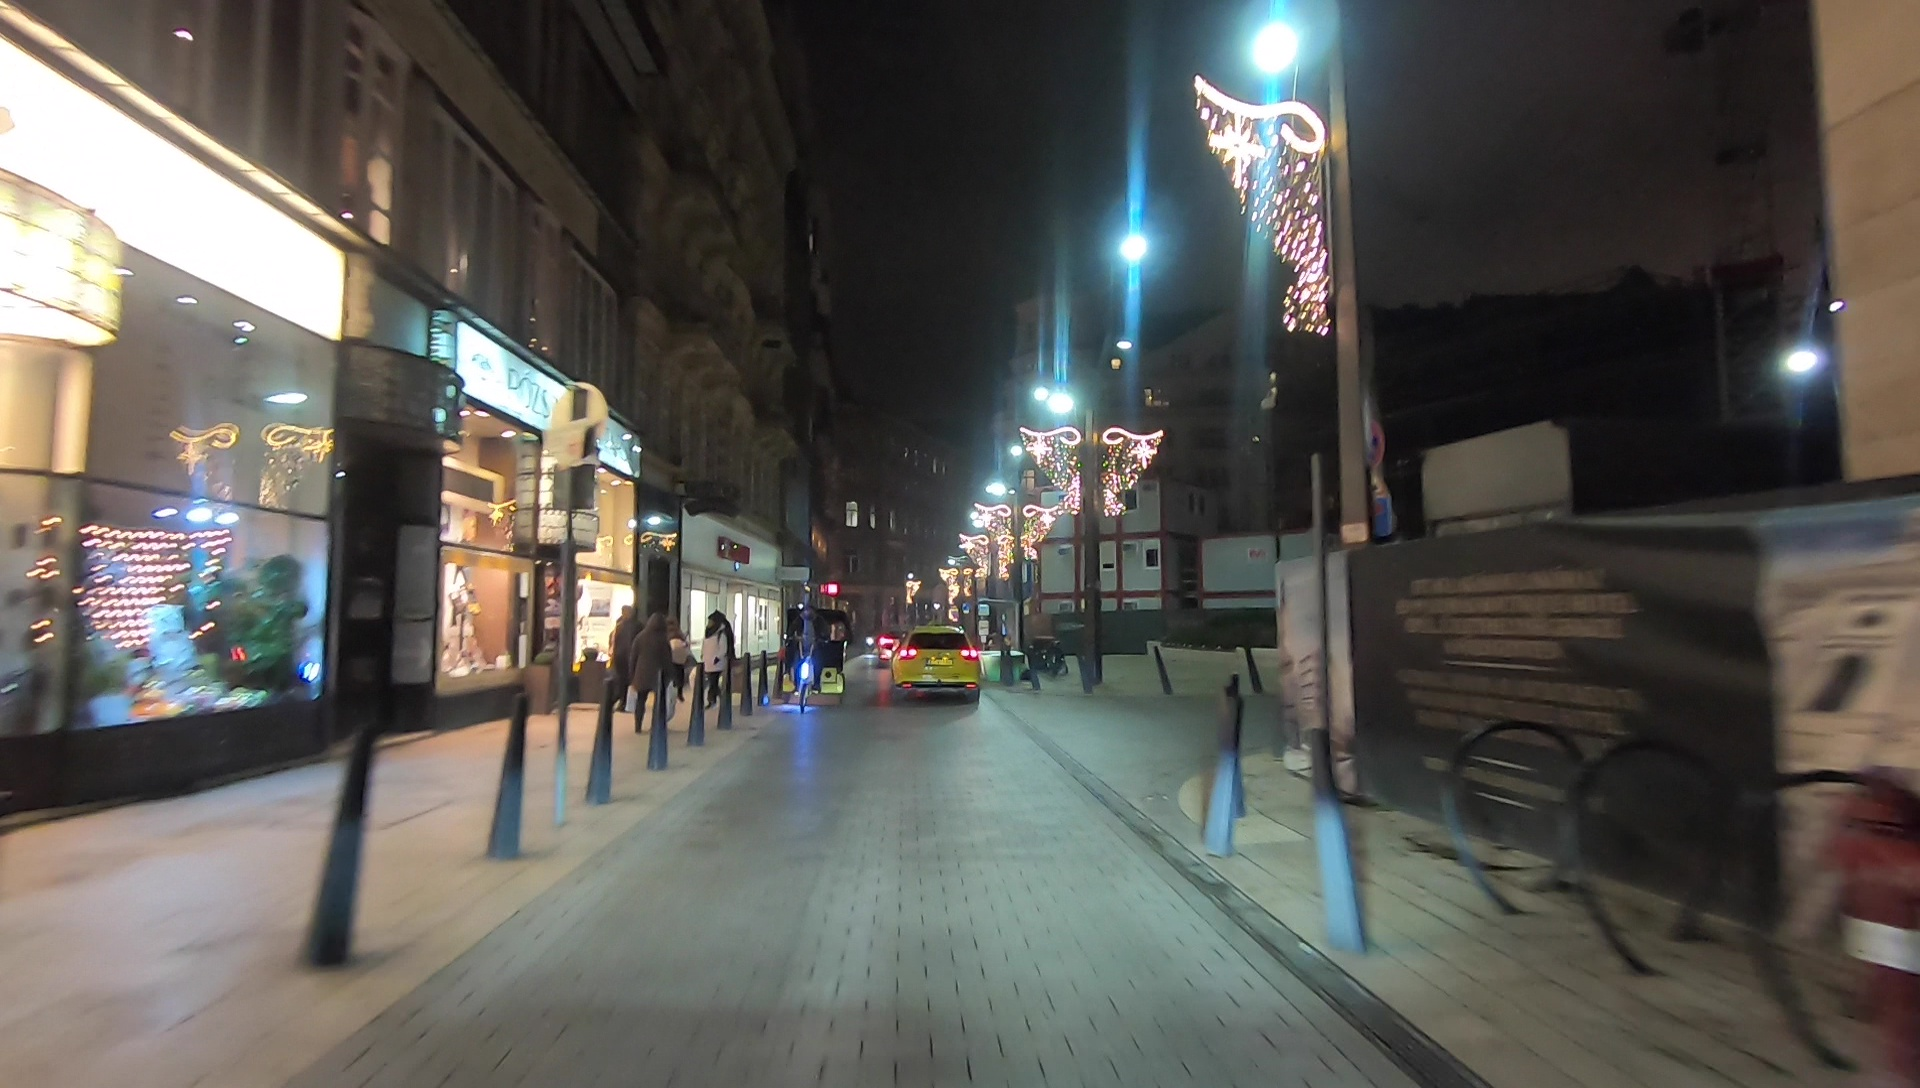person: (634, 614, 670, 731), (606, 605, 645, 712), (703, 611, 735, 712)
